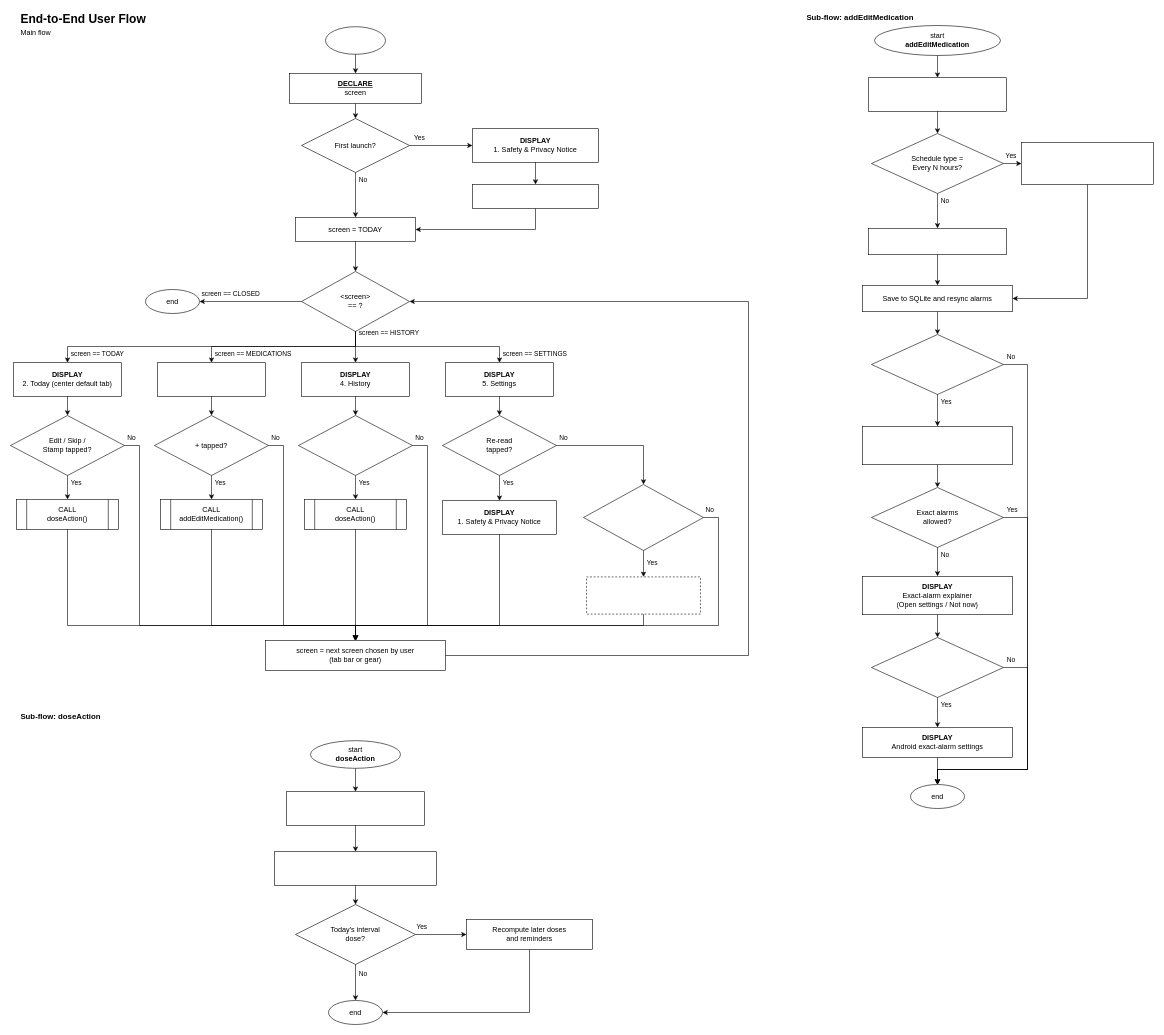
Some shapes in this 1164 by 1035 pixel diagram are drawn without their labels. Each missing label, with the centre of its shape:
Apply change to the dose log (Taken / Skipped, edit time, Clear record): (x=355, y=868)
DISPLAY 2a. Dose Action Bottom Sheet: (x=355, y=808)
DISPLAY 3. Medications: (x=211, y=379)
DISPLAY 3a. Add / Edit Medication: (x=937, y=94)
DISPLAY Account & Caregiver Sync (v1.1, optional): (x=643, y=595)
DISPLAY POST_NOTIFICATIONS prompt (skipped on Android 12 or lower): (x=937, y=445)
Enter doses per day (2–12), interval (1–12 h), and first dose time: (x=1087, y=163)
Enter one or more daily times: (x=937, y=241)
First medication saved?: (x=937, y=364)
Log item tapped?: (x=355, y=445)
Open settings tapped?: (x=937, y=667)
start main: (x=355, y=40)
User taps Agree & Continue: (x=535, y=196)
v1.1 Account & Caregiver Sync tapped?: (x=643, y=517)
